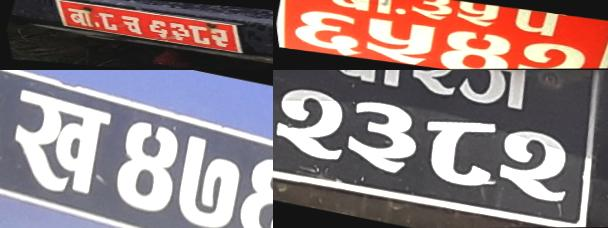0: (322, 70, 415, 92)
1: (488, 125, 574, 207), (273, 83, 349, 163), (402, 70, 465, 100)
2: (447, 70, 539, 115), (507, 37, 593, 69), (200, 28, 240, 48)
3: (403, 0, 459, 24), (160, 22, 196, 41)
4: (101, 113, 186, 222), (428, 26, 520, 69)
5: (354, 15, 444, 68), (448, 1, 507, 30)
6: (280, 5, 374, 59), (223, 148, 273, 228), (138, 19, 175, 40)
7: (162, 128, 250, 228)
8: (176, 24, 219, 46), (88, 11, 128, 33)
ba: (337, 96, 422, 178), (322, 0, 411, 18), (55, 7, 101, 29)
cha: (108, 14, 152, 36)
kha: (0, 83, 121, 204)
pa: (411, 110, 501, 193), (502, 8, 569, 40)
